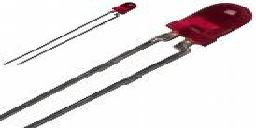LED: (147, 1, 256, 85), (105, 2, 136, 17)
